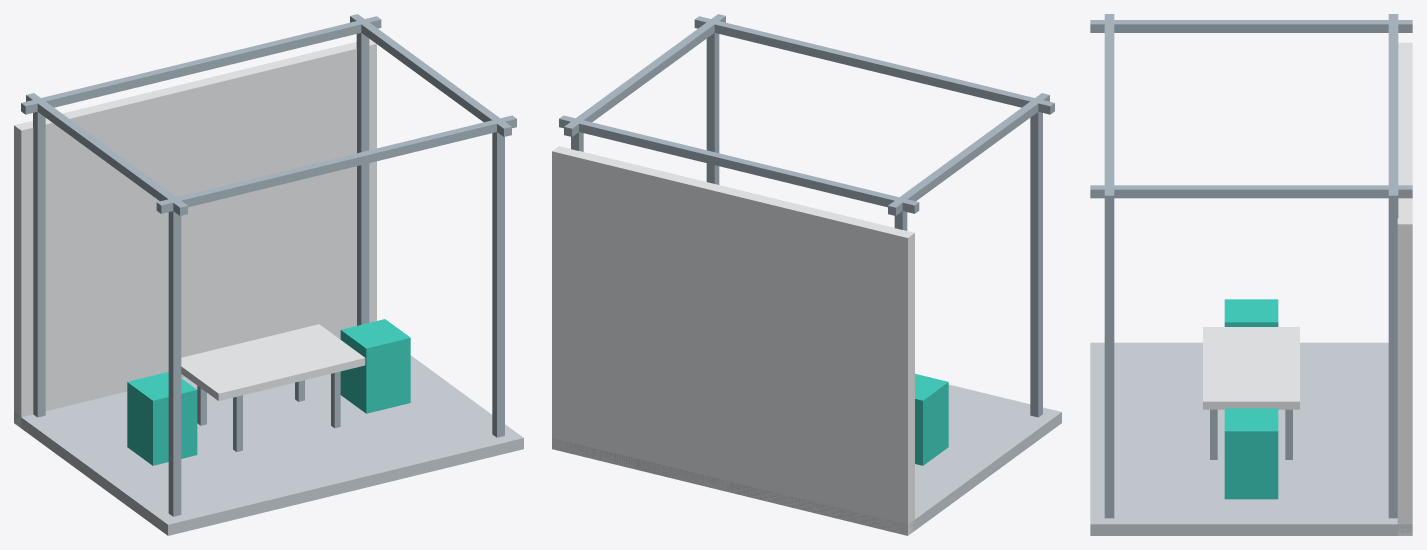
The picture shows the model from 3 angles, left to right: view 1: azimuth 30°, elevation 25°; view 2: azimuth 150°, elevation 25°; view 3: azimuth 270°, elevation 25°; orthographic projection. The views are drawn at different scales.
Visible parts, largest first — view 1: Exhibition Booth Concept; view 2: Exhibition Booth Concept; view 3: Exhibition Booth Concept.
Part boxes in pixels (x1,y1,x2,y2): Exhibition Booth Concept: (14, 14, 523, 535); Exhibition Booth Concept: (552, 14, 1061, 535); Exhibition Booth Concept: (1090, 14, 1412, 535).
Bounding box in the file's own units: 4 × 3.49 × 3.
